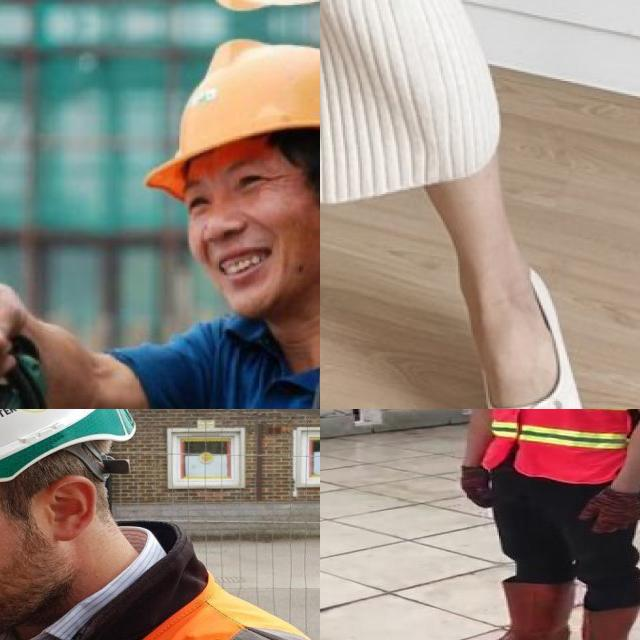No_Ear-Protection: (42, 473, 104, 544)
No_Glasses: (178, 155, 320, 217)
Sandals: (466, 231, 593, 409)
boots: (460, 582, 572, 640), (552, 608, 639, 640)
face_nomask: (188, 205, 320, 319), (0, 470, 79, 639)
hand_noglove: (0, 285, 28, 376)
head_helmet: (146, 39, 320, 199)
person: (0, 409, 320, 640), (452, 409, 640, 640)
vest: (0, 592, 320, 640), (481, 409, 640, 485)
